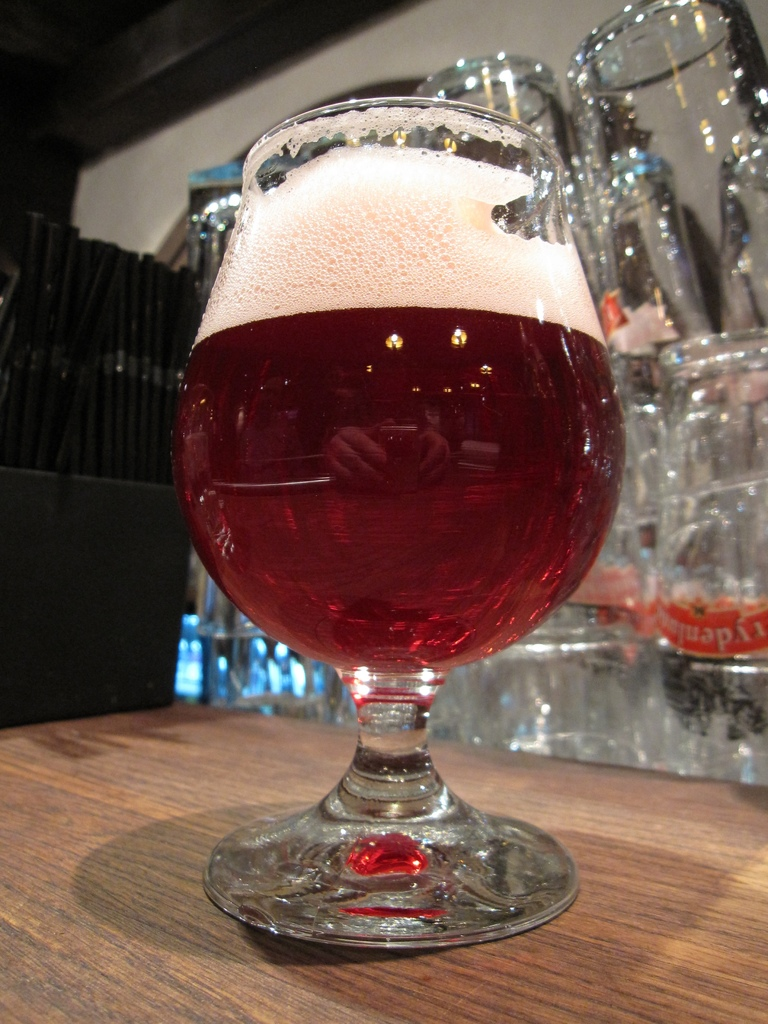Beer: (177, 90, 599, 998)
